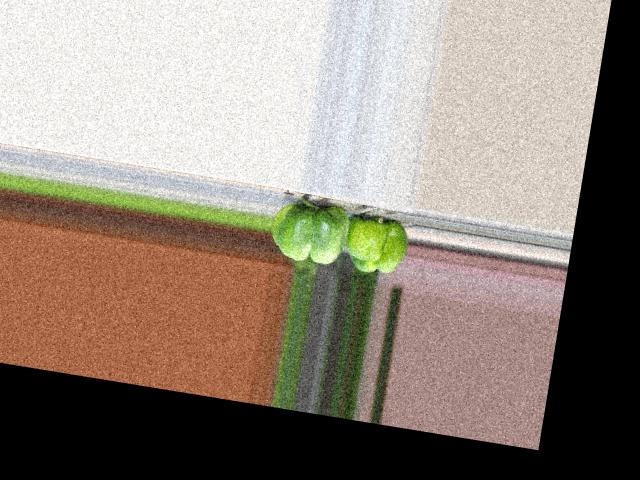bell_pepper: (340, 208, 414, 280)
